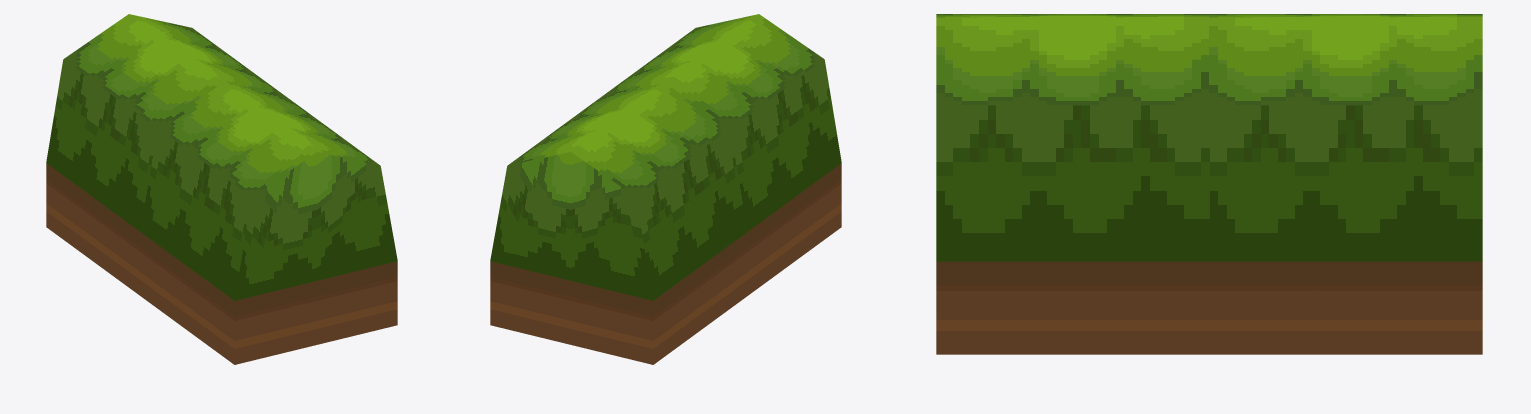
Rendered from plantar_0.obj.
The picture shows the model from 3 angles, left to right: view 1: azimuth 30°, elevation 25°; view 2: azimuth 150°, elevation 25°; view 3: azimuth 270°, elevation 25°; orthographic projection. The views are drawn at different scales.
Visible parts, largest first — view 1: plantar_0; view 2: plantar_0; view 3: plantar_0.
Part boxes in pixels (box(x1,y1,x2,y2)): plantar_0: box(46, 14, 397, 364); plantar_0: box(490, 14, 841, 364); plantar_0: box(936, 14, 1482, 354).
Bounding box in the file's own units: 0.2125 × 0.2133 × 0.3825.
1 material, 1 textured.
